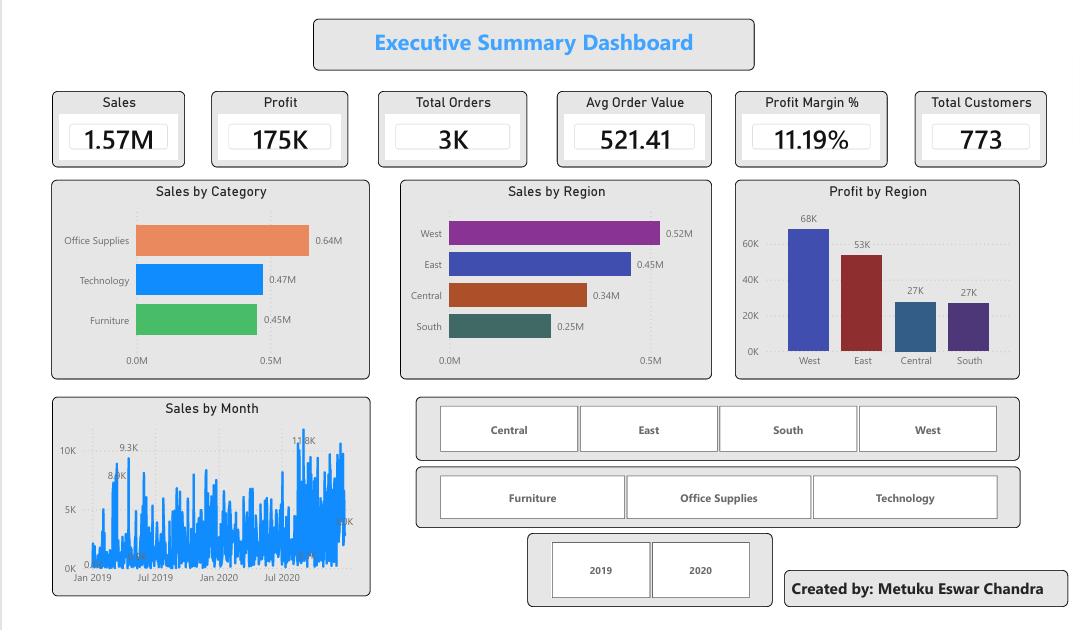

The dashboard page shown, as its layout file describes it:
{"tool":"powerbi","page":{"name":"Executive Summary","canvas":[1280,720],"ordinal":0},"visuals":[{"type":"cardVisual","title":"Sales","fields":{"Data":["Sum(SuperStore_Sales_Dataset.Sales)"]},"box":[37,87.8,161.9,93.3],"z":0},{"type":"cardVisual","title":"Profit","fields":{"Data":["Sum(SuperStore_Sales_Dataset.Profit)"]},"box":[230.5,87.8,167.4,93.3],"z":1000},{"type":"cardVisual","title":"Avg Order Value","fields":{"Data":["SuperStore_Sales_Dataset.Average Order Value"]},"box":[651.8,87.8,189.4,93.3],"z":2000},{"type":"cardVisual","title":"Total Orders","fields":{"Data":["SuperStore_Sales_Dataset.Total Orders"]},"box":[433.6,87.8,182.5,93.3],"z":3000},{"type":"cardVisual","title":"Profit Margin %","fields":{"Data":["SuperStore_Sales_Dataset.Profit Margin %"]},"box":[868.6,87.8,186.6,93.3],"z":4000},{"type":"clusteredBarChart","title":"Sales by Category","fields":{"Category":["SuperStore_Sales_Dataset.Category"],"Y":["Sum(SuperStore_Sales_Dataset.Sales)"]},"box":[35.7,196.2,388.3,242.9],"z":5000},{"type":"clusteredBarChart","title":"Sales by Region","fields":{"Category":["SuperStore_Sales_Dataset.Region"],"Y":["Sum(SuperStore_Sales_Dataset.Sales)"]},"box":[461.1,196.2,380.1,242.9],"z":6000},{"type":"clusteredColumnChart","title":"Profit by Region","fields":{"Y":["Sum(SuperStore_Sales_Dataset.Profit)"],"Category":["SuperStore_Sales_Dataset.Region"]},"box":[868.6,196.2,347.2,242.9],"z":7000},{"type":"lineChart","title":"Sales by Month","fields":{"Category":["SuperStore_Sales_Dataset.Order Date.Variation.Date Hierarchy.Month"],"Y":["Sum(SuperStore_Sales_Dataset.Sales)"]},"box":[37,459.7,388.3,242.9],"z":8000},{"type":"slicer","fields":{"Values":["SuperStore_Sales_Dataset.Region"]},"box":[480.3,459.7,735.5,78.2],"z":9000},{"type":"slicer","fields":{"Values":["SuperStore_Sales_Dataset.Category"]},"box":[480.3,544.8,736.9,75.5],"z":9001},{"type":"slicer","fields":{"Values":["Orders.Order Date.Variation.Date Hierarchy.Year"]},"box":[616.1,625.7,299.1,90.6],"z":9002},{"type":"textbox","box":[929,671,345.8,45.3],"z":9003},{"type":"cardVisual","title":"Total Customers","fields":{"Data":["Orders.Total Customers"]},"box":[1088.2,87.8,160.5,93.3],"z":9004},{"type":"textbox","box":[355.4,0,537.9,63.1],"z":9005}]}

Visuals, with their boxes in screenshot pixels (x1, y1, x2, y2), scaled from the page's 1280x720 canvas onto the 1091x630 screenshot:
"Sales" cardVisual: bbox=[32, 77, 170, 158]
"Profit" cardVisual: bbox=[196, 77, 339, 158]
"Avg Order Value" cardVisual: bbox=[556, 77, 717, 158]
"Total Orders" cardVisual: bbox=[370, 77, 525, 158]
"Profit Margin %" cardVisual: bbox=[740, 77, 899, 158]
"Sales by Category" clusteredBarChart: bbox=[30, 172, 361, 384]
"Sales by Region" clusteredBarChart: bbox=[393, 172, 717, 384]
"Profit by Region" clusteredColumnChart: bbox=[740, 172, 1036, 384]
"Sales by Month" lineChart: bbox=[32, 402, 363, 615]
slicer - SuperStore_Sales_Dataset.Region: bbox=[409, 402, 1036, 471]
slicer - SuperStore_Sales_Dataset.Category: bbox=[409, 477, 1037, 543]
slicer - Orders.Order Date.Variation.Date Hierarchy.Year: bbox=[525, 547, 780, 627]
textbox: bbox=[792, 587, 1087, 627]
"Total Customers" cardVisual: bbox=[928, 77, 1064, 158]
textbox: bbox=[303, 0, 761, 55]
